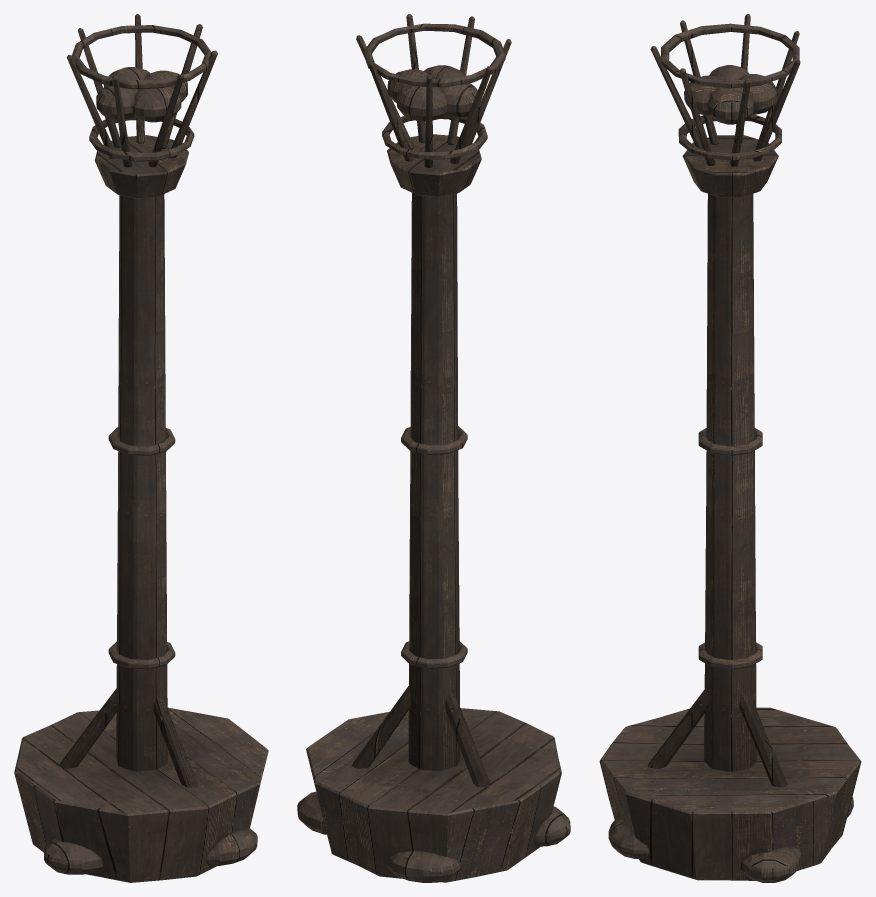
The model's file is p_torchpost.hi.glb.
3 renders of one model, left to right at view 1: azimuth 30°, elevation 25°; view 2: azimuth 150°, elevation 25°; view 3: azimuth 270°, elevation 25°, orthographic.
Visible parts, largest first — view 1: torchpost; view 2: torchpost; view 3: torchpost.
Boxes of the visible parts, x1,y1,x2,y2 form: torchpost: [14, 14, 268, 882]; torchpost: [297, 14, 570, 882]; torchpost: [599, 14, 861, 882].
Size of the model in its own units: 0.8034 by 2.67 by 0.8.
Materials: 1 (1 with a texture image).
